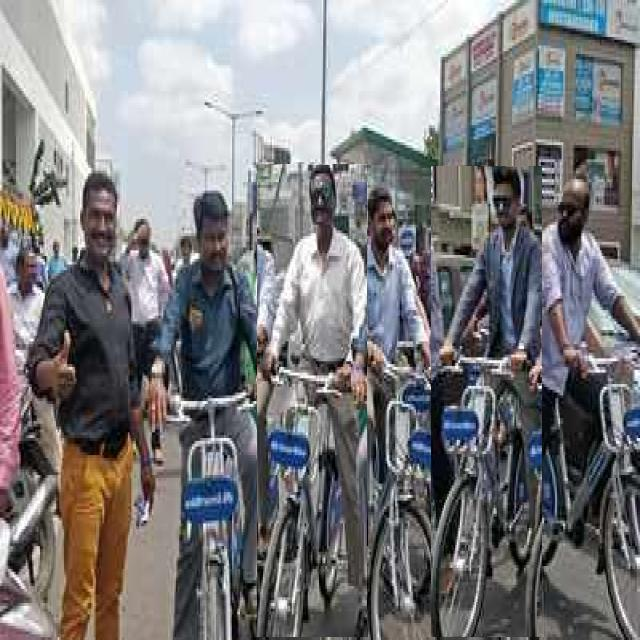bicycle: (520, 178, 640, 637), (148, 191, 271, 638), (431, 166, 541, 637), (257, 164, 366, 637), (345, 187, 446, 638)
